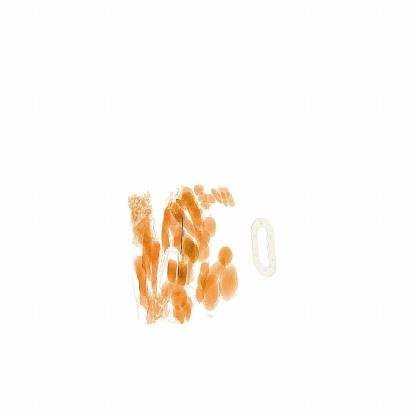pliers: (168, 201, 196, 280)
